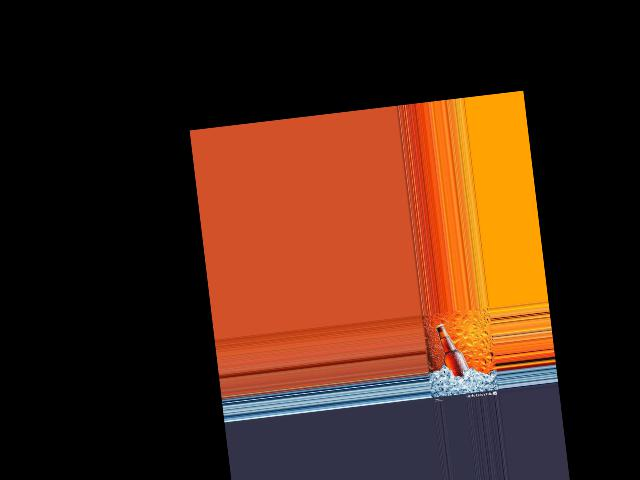beer: (433, 321, 469, 380)
